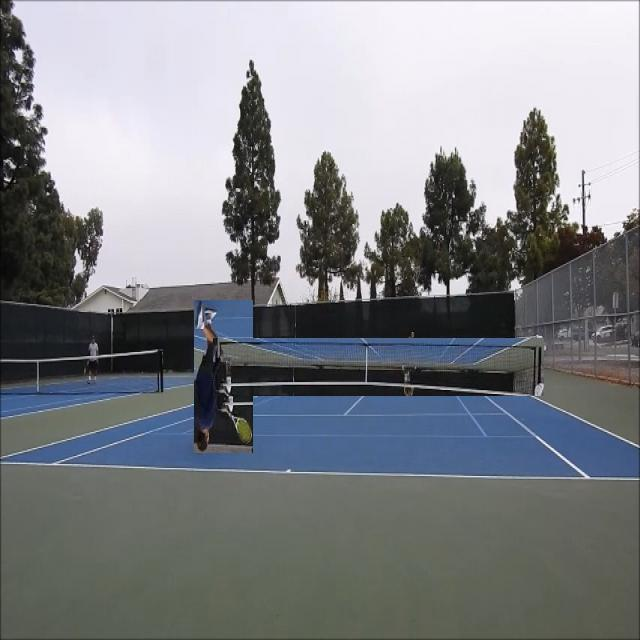court: (0, 370, 640, 480)
net: (214, 338, 546, 396)
player: (194, 300, 253, 453)
